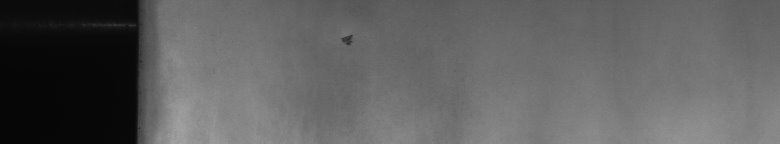fi: (337, 28, 356, 52)
